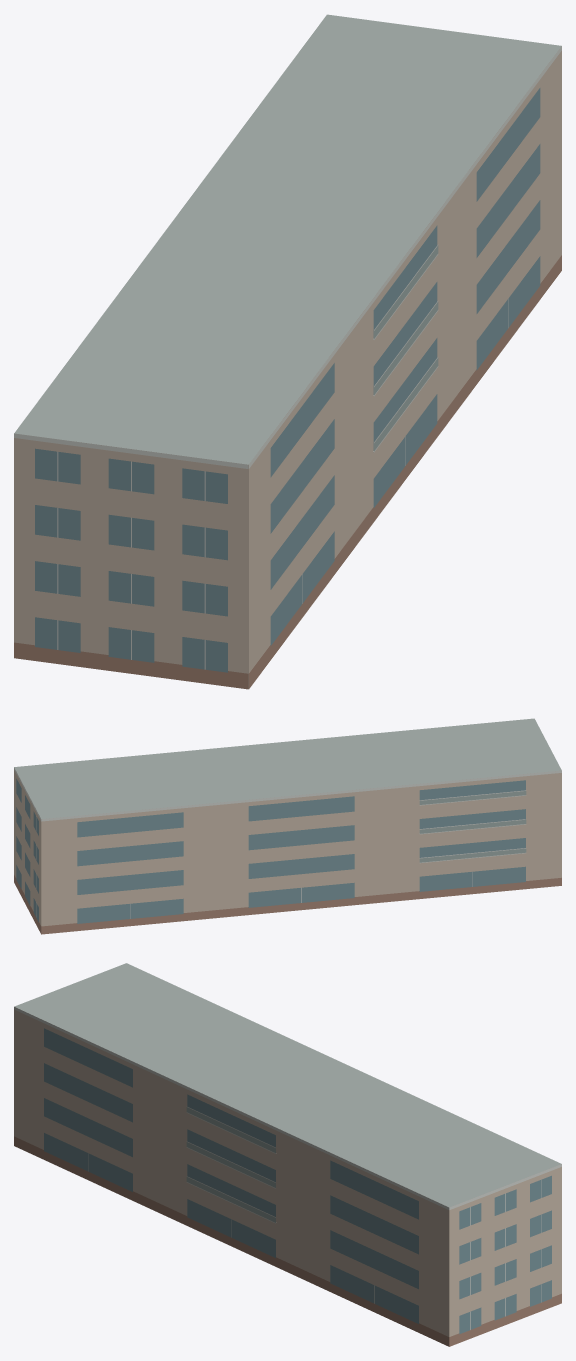
The model's file is residential-d601c439-2489-45ac-9dbc-039603c018ce.glb.
The picture shows the model from 3 angles, top to bottom: view 1: azimuth 30°, elevation 25°; view 2: azimuth 150°, elevation 25°; view 3: azimuth 270°, elevation 25°; orthographic projection. The views are drawn at different scales.
Parts seen in each view (by area): view 1: residential-d601c439-2489-45ac-9dbc-039603c018ce.tmp; view 2: residential-d601c439-2489-45ac-9dbc-039603c018ce.tmp; view 3: residential-d601c439-2489-45ac-9dbc-039603c018ce.tmp.
Part boxes in pixels (left/top/right/bottom): residential-d601c439-2489-45ac-9dbc-039603c018ce.tmp: left=14, top=14, right=561, bottom=689; residential-d601c439-2489-45ac-9dbc-039603c018ce.tmp: left=14, top=718, right=561, bottom=934; residential-d601c439-2489-45ac-9dbc-039603c018ce.tmp: left=14, top=963, right=561, bottom=1346.
Bounding box in the file's own units: 45.91 × 12.2 × 43.48.
